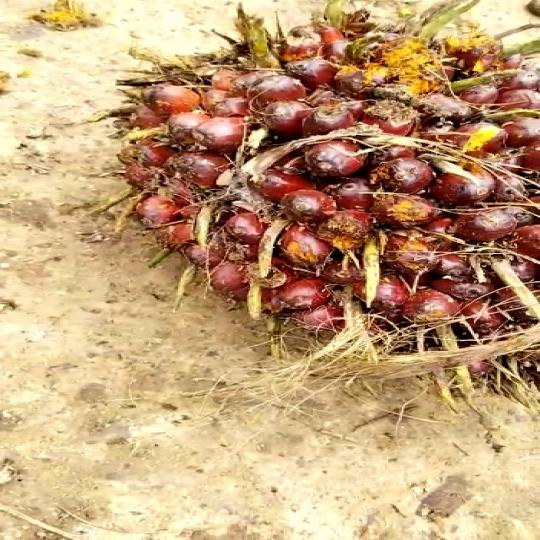masak: (108, 0, 540, 410)
